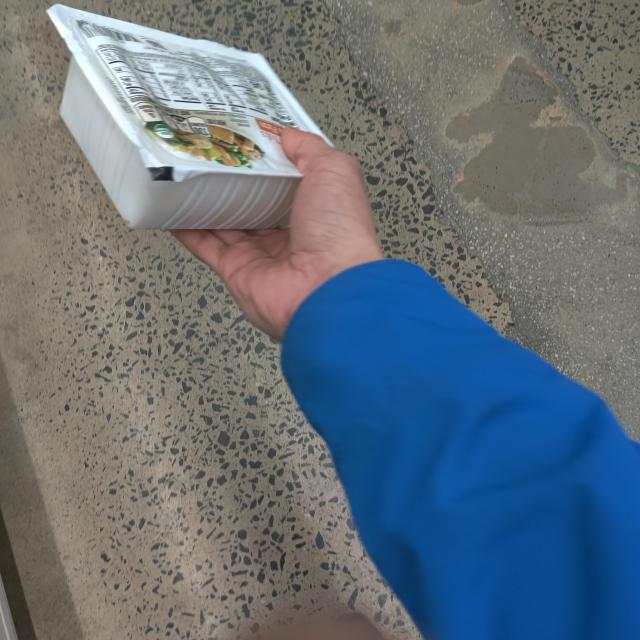Tofu: (44, 0, 356, 227)
